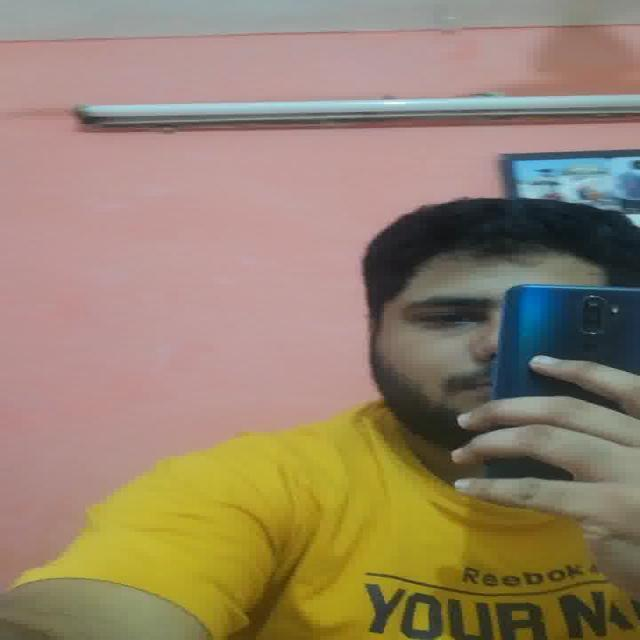Phone: (496, 284, 639, 396)
